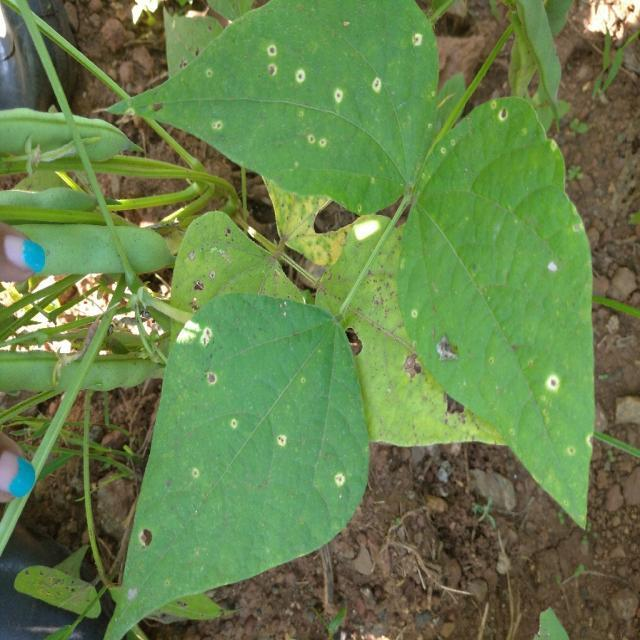hawar: (330, 293, 491, 439), (225, 35, 400, 147), (164, 413, 291, 472), (120, 521, 161, 563)
sehat: (441, 203, 531, 301), (250, 320, 316, 379)
